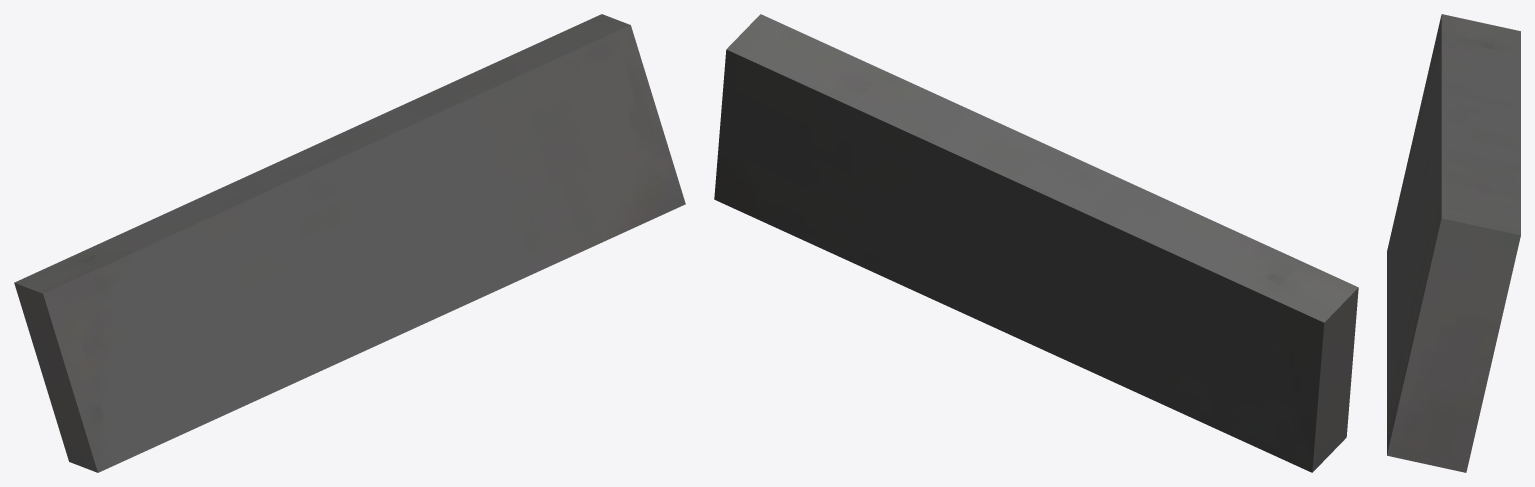
The model's file is fan_center__blade_4.glb.
3 renders of one model, left to right at view 1: azimuth 30°, elevation 25°; view 2: azimuth 150°, elevation 25°; view 3: azimuth 270°, elevation 25°, orthographic. The views are drawn at different scales.
Visible parts, largest first — view 1: world; view 2: world; view 3: world.
Part boxes in pixels (bbox=[...]): world: bbox=[14, 14, 685, 472]; world: bbox=[714, 14, 1358, 472]; world: bbox=[1387, 14, 1520, 472].
Size of the model in its own units: 0.0291 by 0.0138 by 0.00428.
Materials: 1 (1 with a texture image).
